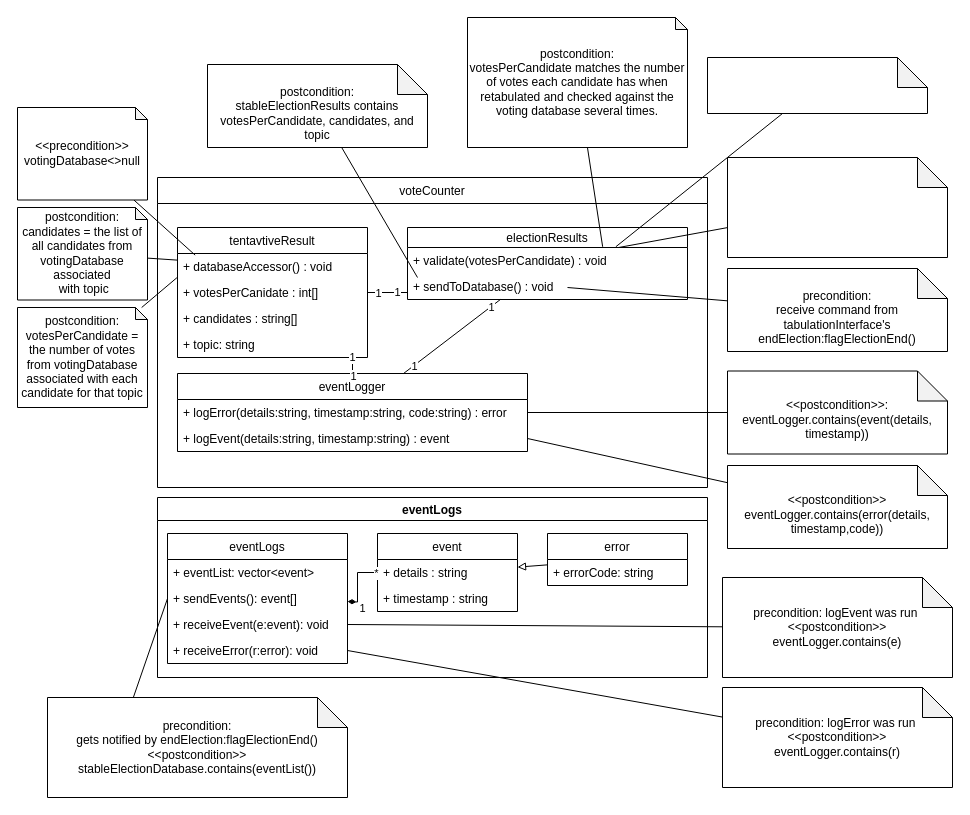
The diagram is 970 pixels wide and 815 high, and some of its shapes have lost their labels. The centre of each missing label's shape, as x and y in pixels:
<<invariant>> n:votesPerCandidate[iterator()] votesPerCandidate->forAll(n| n>=0): the point at 837,207
<<precondition>> votesPerCandidate<>null: the point at 817,85
